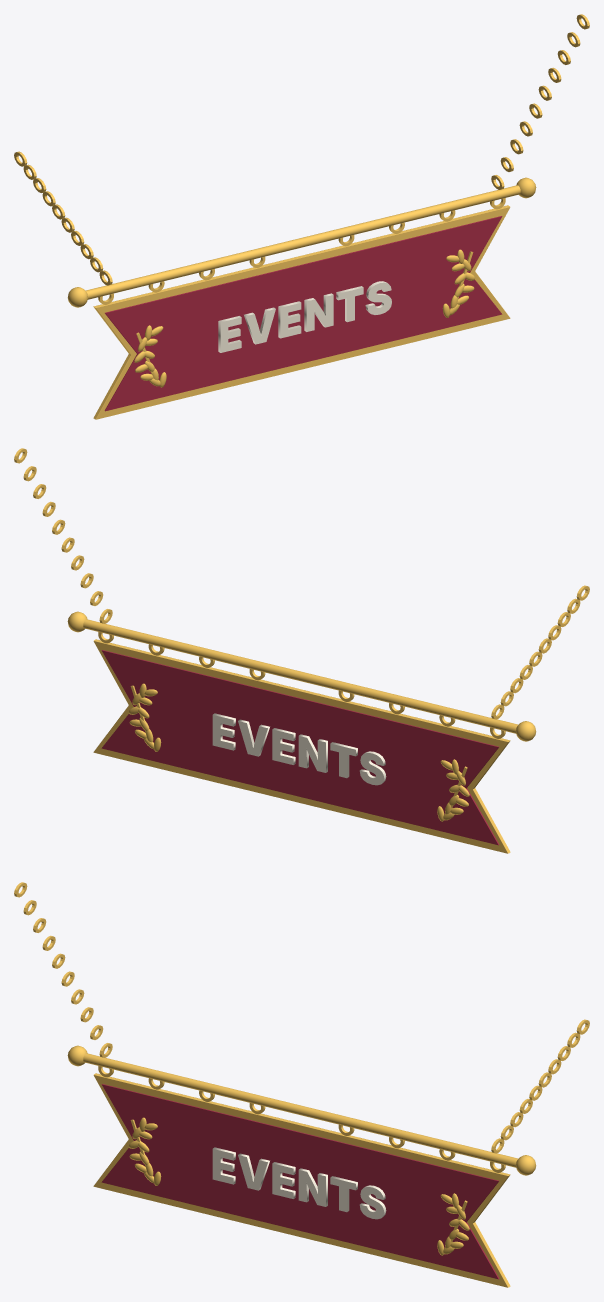
File: Lobby_PROP_EventsBanner.fbx
3 views of the same model, one above another, from view 1: azimuth 30°, elevation 25°; view 2: azimuth 150°, elevation 25°; view 3: azimuth 330°, elevation 25° (orthographic).
Parts seen in each view (by area): view 1: EventsRed__Events, Gold__Events, EventsText__Events; view 2: EventsRed__Events, Gold__Events, EventsText__Events; view 3: EventsRed__Events, Gold__Events, EventsText__Events.
Boxes of the visible parts, left/top/right/bottom form: EventsRed__Events: left=104, top=216, right=502, bottom=411; Gold__Events: left=67, top=175, right=536, bottom=419; EventsText__Events: left=218, top=281, right=391, bottom=352; EventsRed__Events: left=101, top=650, right=499, bottom=845; Gold__Events: left=67, top=609, right=536, bottom=853; EventsText__Events: left=212, top=713, right=386, bottom=785; EventsRed__Events: left=101, top=1084, right=499, bottom=1279; Gold__Events: left=67, top=1043, right=536, bottom=1287; EventsText__Events: left=212, top=1147, right=386, bottom=1219.
Size of the model in its own units: 19.04 by 9.15 by 0.64.
